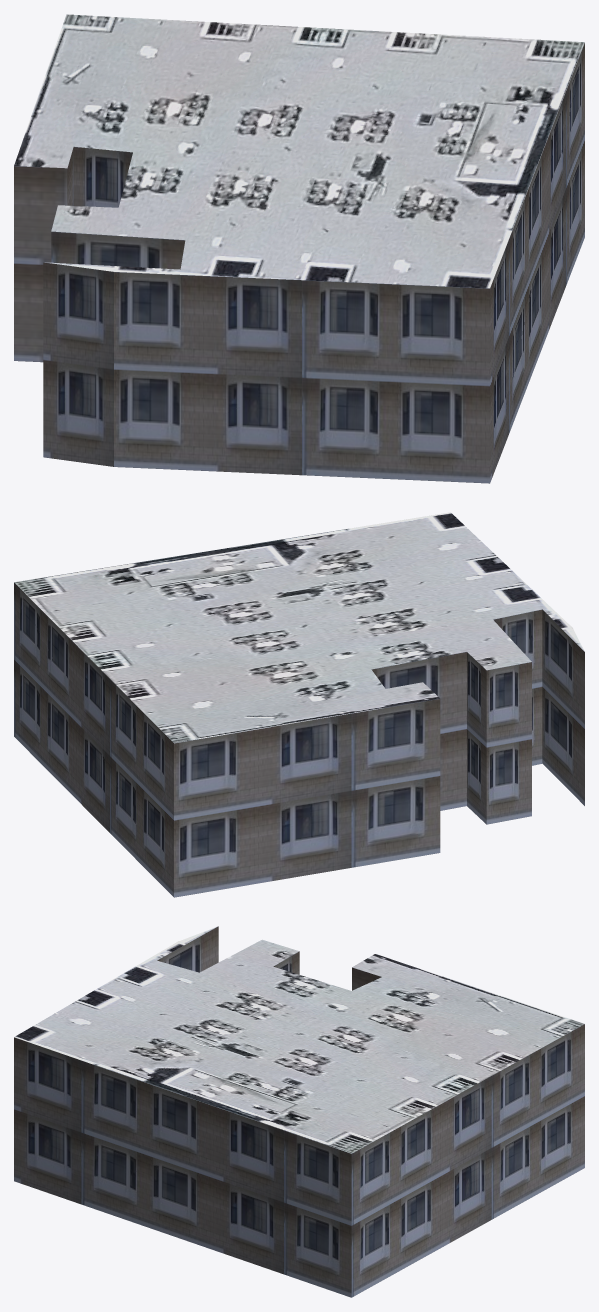
File: ResTex__3781.fbx
3 renders of one model, top to bottom at view 1: azimuth 30°, elevation 25°; view 2: azimuth 150°, elevation 25°; view 3: azimuth 270°, elevation 25°, orthographic. The views are drawn at different scales.
Visible parts, largest first — view 1: CityEngineMaterial_3_m, CityEngineMaterial_4_m; view 2: CityEngineMaterial_3_m, CityEngineMaterial_4_m; view 3: CityEngineMaterial_3_m, CityEngineMaterial_4_m.
Boxes of the visible parts, x1,y1,x2,y2 form: CityEngineMaterial_3_m: (14, 43, 584, 483); CityEngineMaterial_4_m: (14, 14, 584, 288); CityEngineMaterial_3_m: (14, 582, 584, 897); CityEngineMaterial_4_m: (14, 512, 584, 743); CityEngineMaterial_3_m: (14, 926, 584, 1297); CityEngineMaterial_4_m: (14, 926, 584, 1153).
Bounding box in the file's own units: 20.34 × 6 × 21.56.
Materials: 2 (2 with a texture image).
